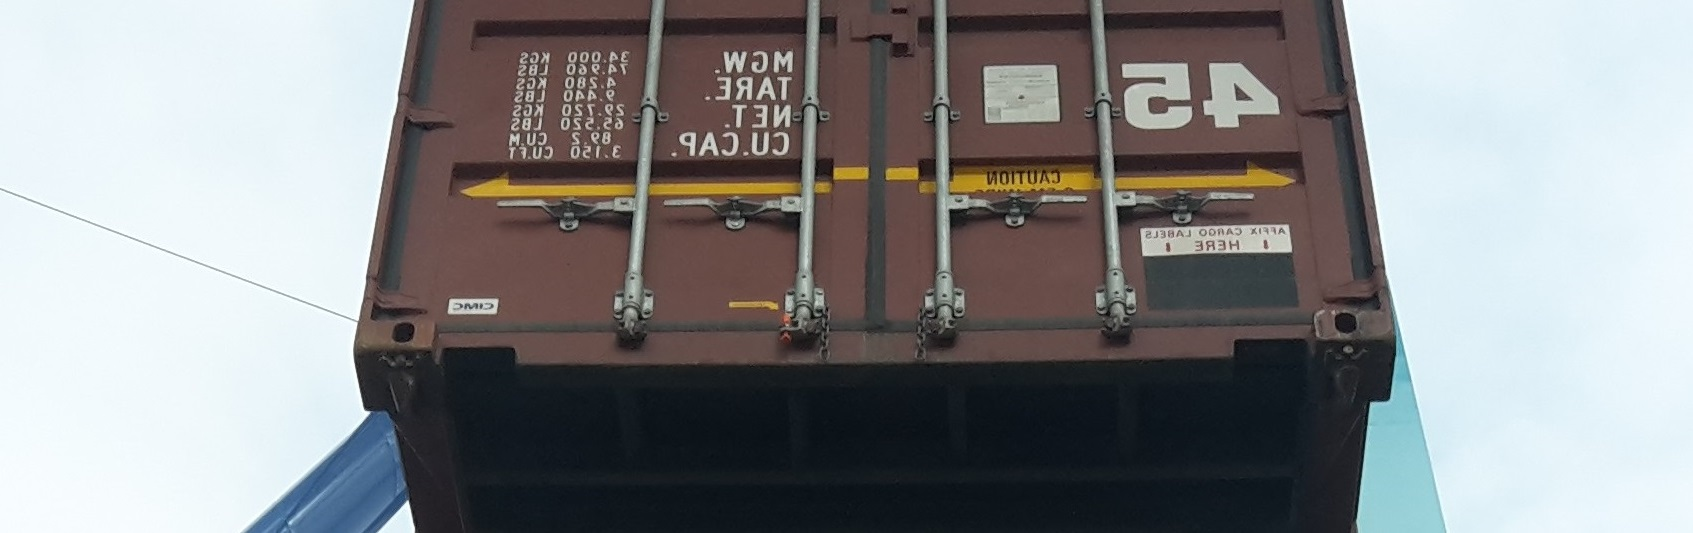container_door: (350, 1, 1406, 359)
